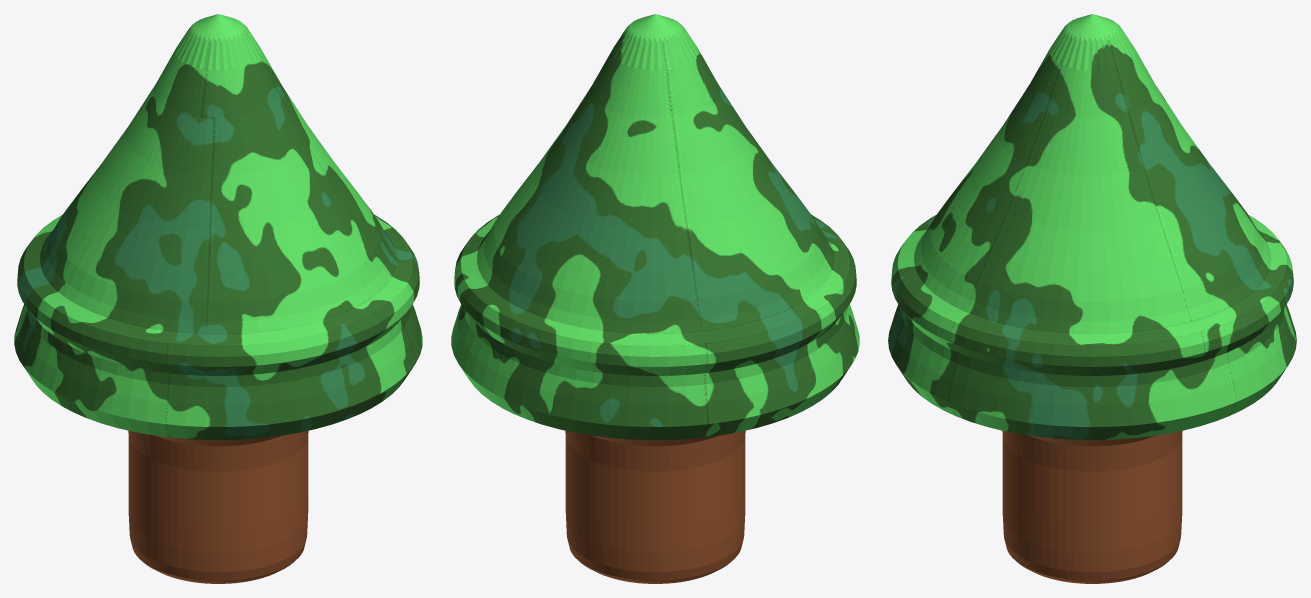
The model's file is tree.fbx.
The picture shows the model from 3 angles, left to right: view 1: azimuth 30°, elevation 25°; view 2: azimuth 150°, elevation 25°; view 3: azimuth 270°, elevation 25°; orthographic projection.
Parts seen in each view (by area): view 1: Cylinder; view 2: Cylinder; view 3: Cylinder.
Part boxes in pixels (box(x1,y1,x2,y2)): Cylinder: box(14, 14, 422, 583); Cylinder: box(451, 14, 859, 583); Cylinder: box(888, 14, 1296, 583).
Size of the model in its own units: 452 by 661 by 452.
